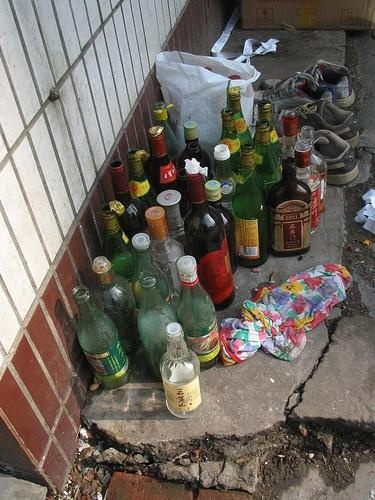bottle: (184, 172, 239, 312), (71, 284, 133, 392), (177, 254, 222, 373), (91, 256, 141, 357), (232, 141, 271, 270), (269, 157, 314, 259), (160, 322, 206, 421), (143, 205, 187, 305), (138, 276, 178, 383), (128, 232, 174, 309), (206, 180, 239, 277), (109, 159, 149, 237), (100, 203, 137, 281), (294, 142, 321, 234), (302, 125, 330, 203), (254, 121, 283, 189), (148, 125, 178, 190), (152, 102, 183, 161), (213, 143, 238, 216), (227, 86, 255, 147), (126, 147, 155, 205), (219, 107, 243, 174), (156, 190, 185, 244), (280, 111, 301, 157), (258, 100, 277, 120)
